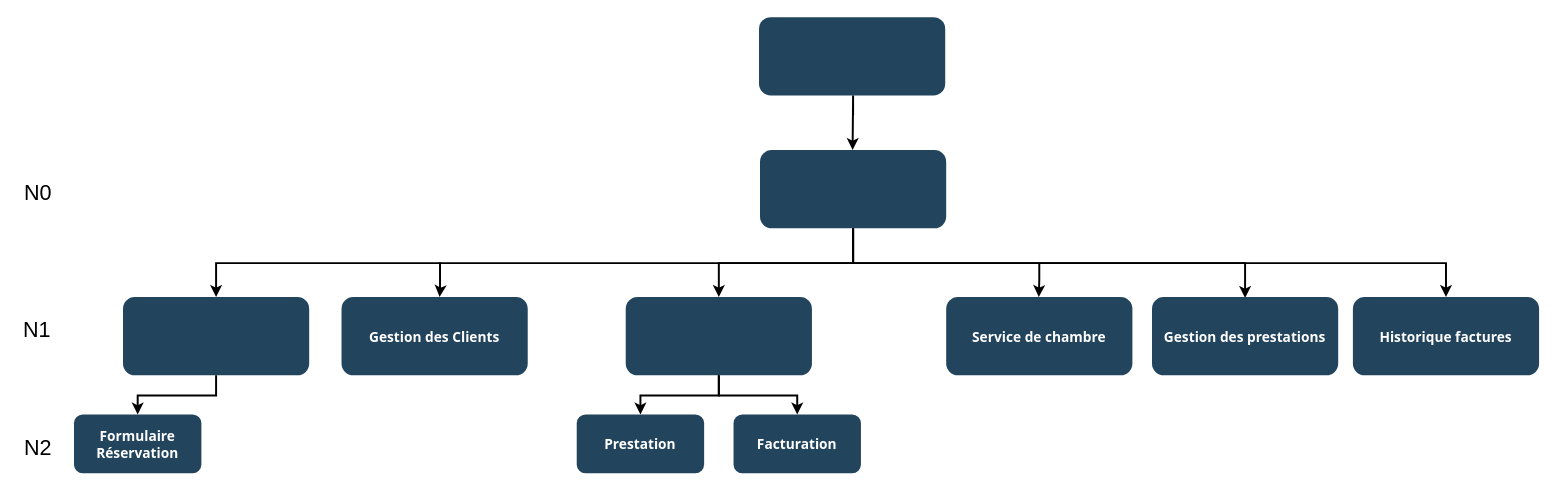
The diagram is 1555 pixels wide and 490 high, and some of its shapes have lost their labels. The shapes that lost their labels are listed below. From the top down, each one's centre as x and y in pixels, then its label:
[852,56]: Connection
[853,188]: Page d'Accueil
[215,335]: Gestion des Réservations
[718,335]: Gestion des chambres
